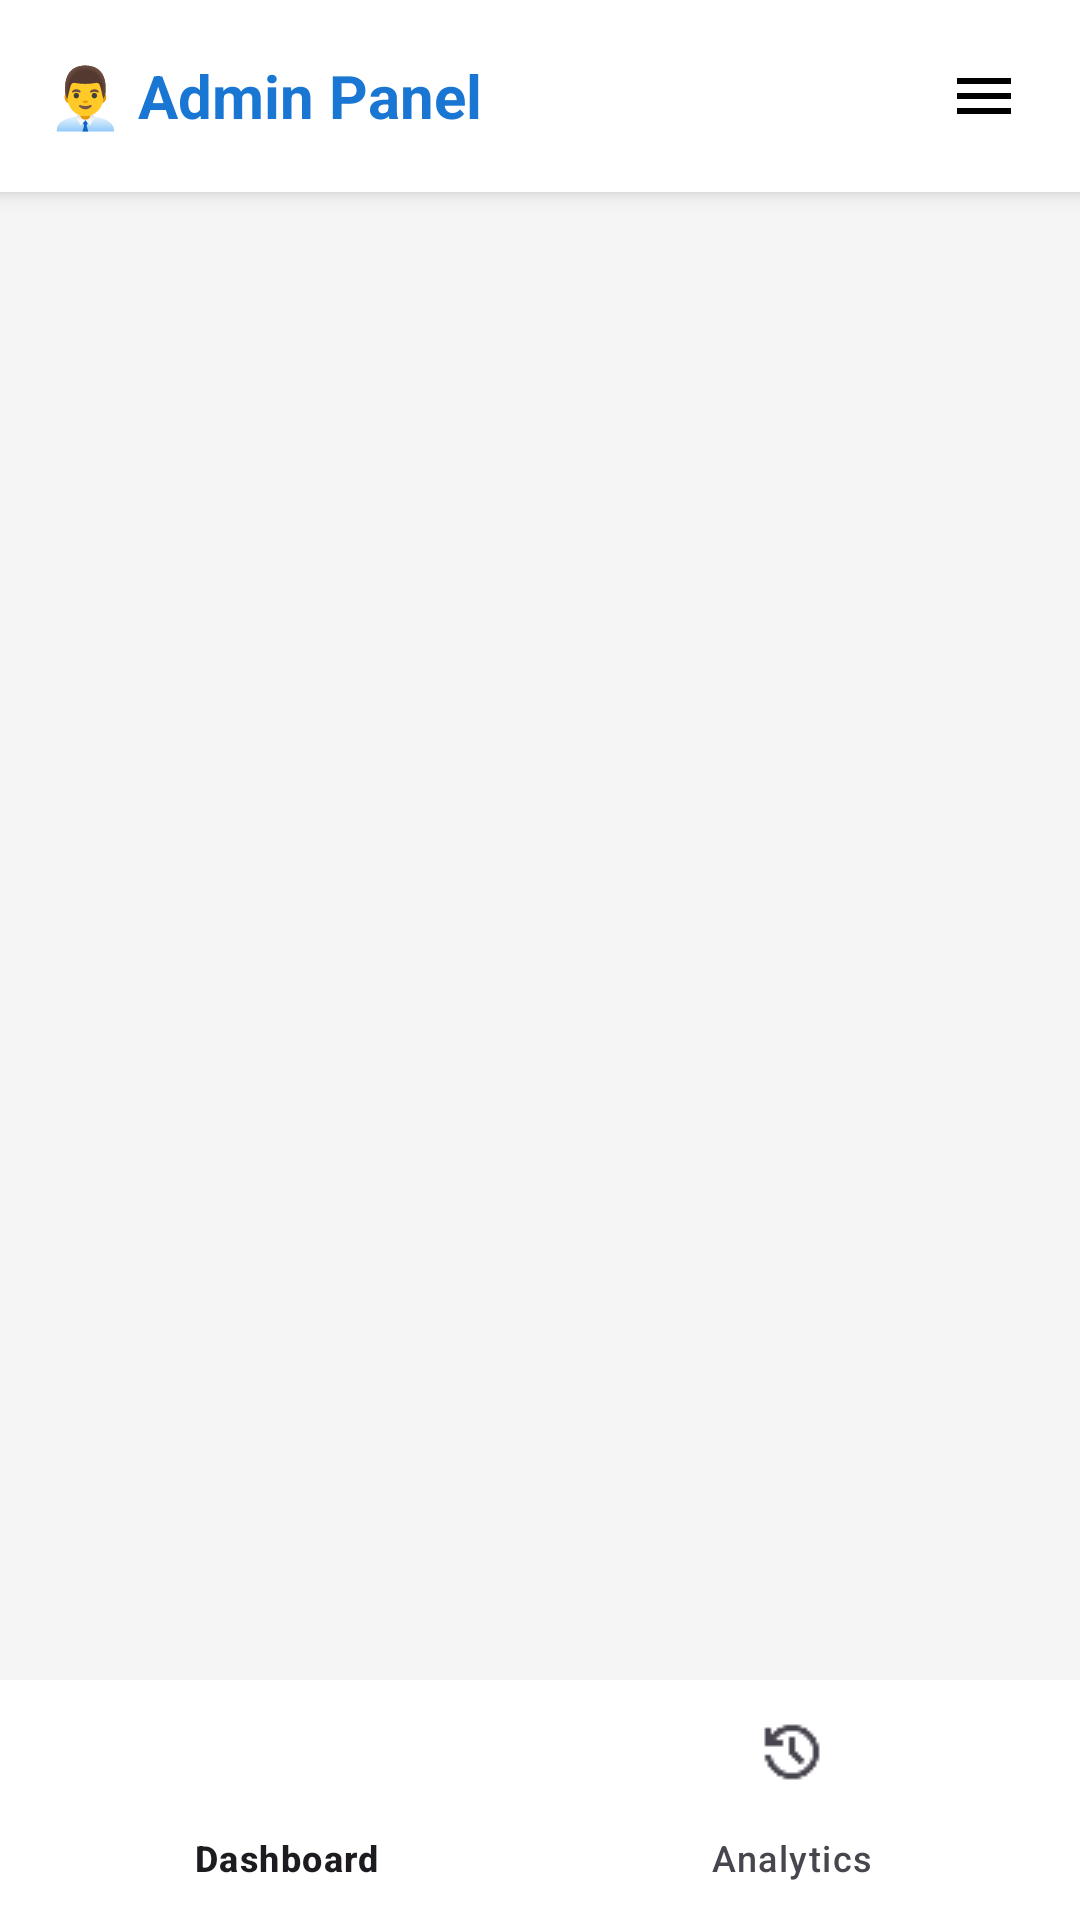

Where icons sit on this 1080×1920 app screen, as (x1, y1, x2, y2):
Admin Menu: (957, 78, 1011, 114)
